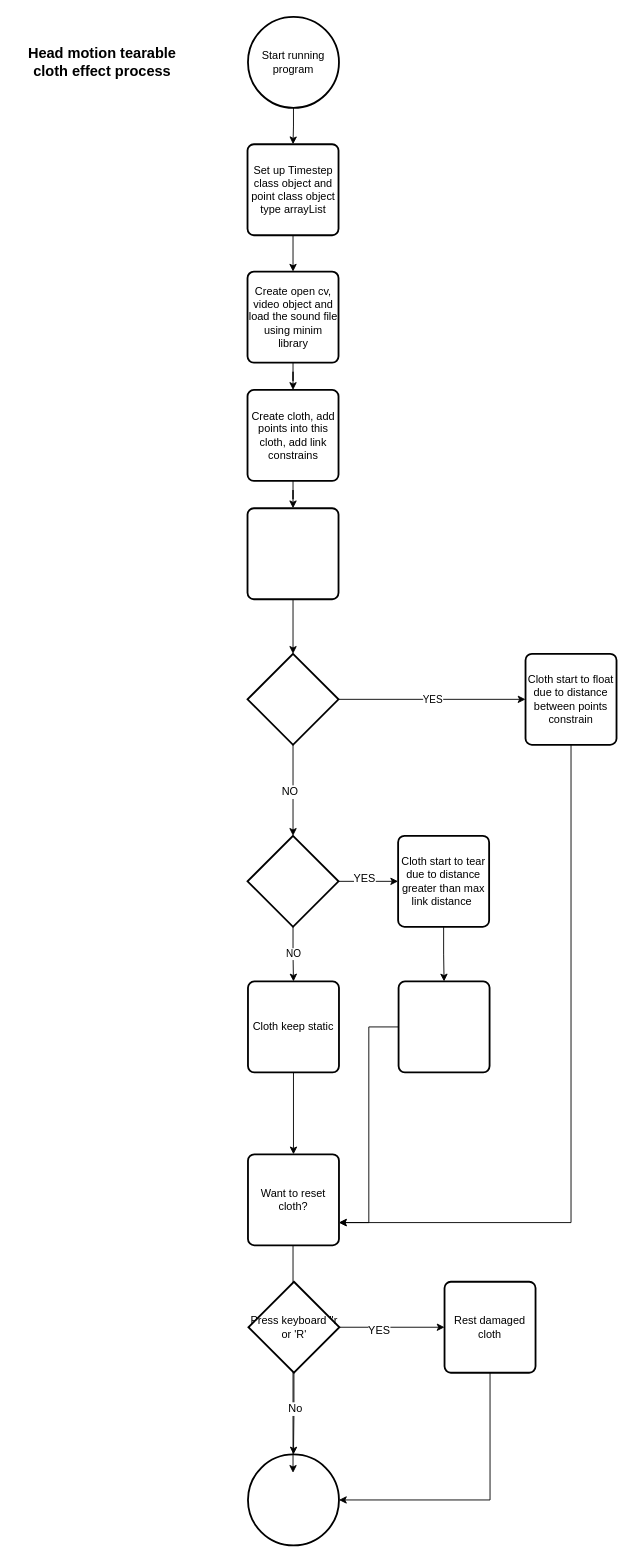
The diagram is 632 pixels wide and 1562 high, and some of its shapes have lost their labels. Each missing label, with the centre of its shape:
"Head move slight fast" goes at point (292, 698).
"Head move too fast" goes at point (292, 880).
"Open camera and start detect user's face." goes at point (292, 553).
"Program create tear sound" goes at point (443, 1026).
"Stop program" goes at point (293, 1499).
